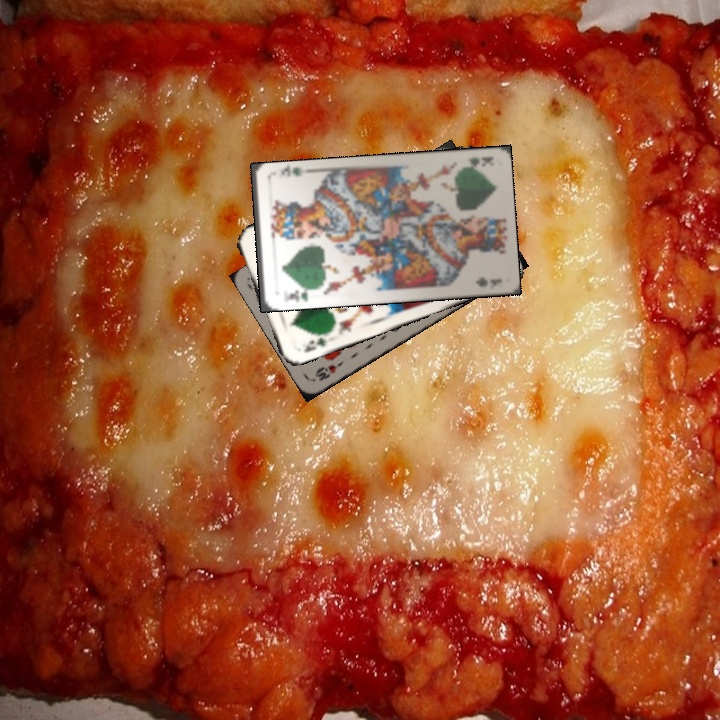GK: (300, 333, 330, 355), (283, 284, 315, 304), (466, 152, 495, 171)
H10: (311, 357, 347, 384)
